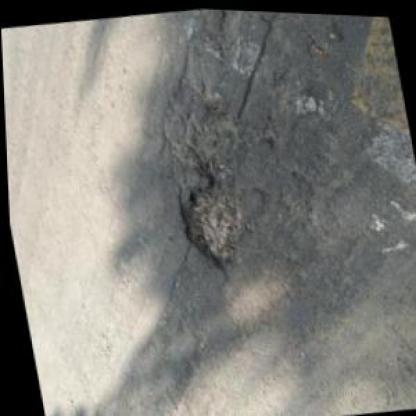pothole: (169, 173, 252, 280), (181, 94, 242, 179)
